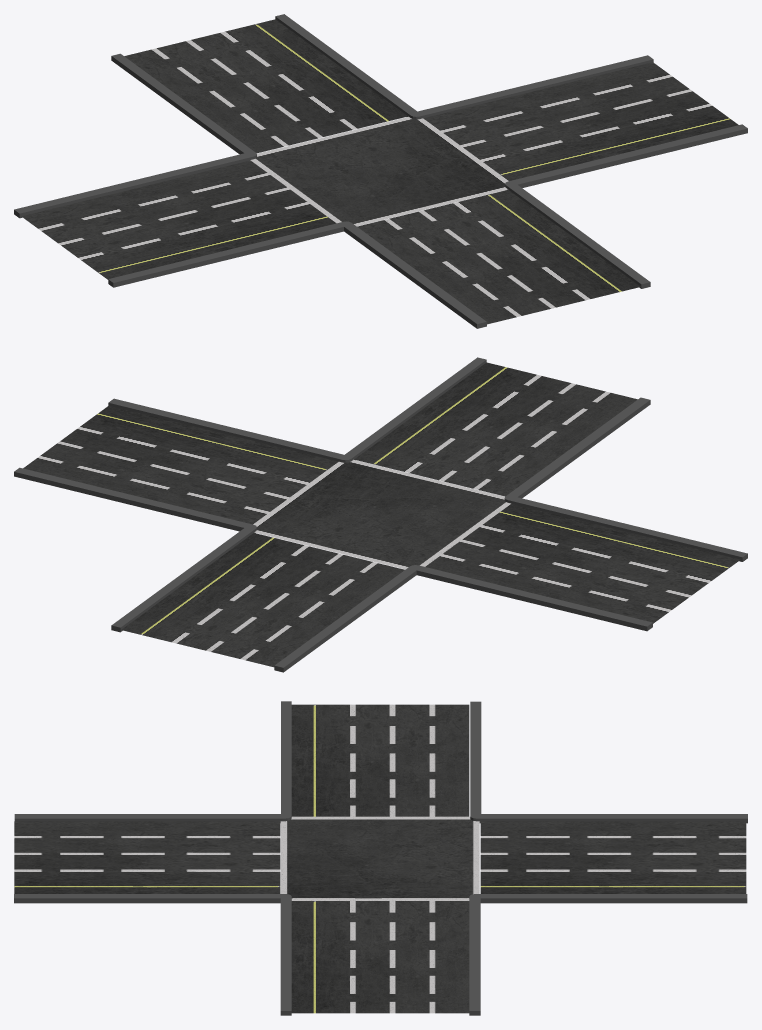
The model's file is 4-Lane_Four-way-intersection.fbx.
3 renders of one model, top to bottom at view 1: azimuth 30°, elevation 25°; view 2: azimuth 150°, elevation 25°; view 3: azimuth 270°, elevation 25°, orthographic.
Parts seen in each view (by area): view 1: polySurface21, polySurface22, polySurface19, polySurface20, polySurface23, pCube27, pCube25, pCube26, pCube28; view 2: polySurface21, polySurface22, polySurface20, polySurface19, polySurface23, pCube26, pCube28, pCube27, pCube25; view 3: polySurface20, polySurface19, polySurface22, polySurface21, polySurface23, pCube28, pCube25, pCube26, pCube27.
Boxes of the visible parts, box(x1,y1,x2,y2) form: polySurface21: box(357, 189, 640, 324); polySurface22: box(124, 19, 407, 153); polySurface19: box(423, 62, 738, 180); polySurface20: box(21, 160, 336, 279); polySurface23: box(250, 116, 508, 226); pCube27: box(108, 221, 486, 328); pCube25: box(505, 124, 747, 288); pCube26: box(14, 53, 256, 218); pCube28: box(275, 14, 653, 119); polySurface21: box(354, 362, 637, 496); polySurface22: box(121, 533, 404, 667); polySurface20: box(425, 503, 740, 623); polySurface19: box(23, 405, 338, 524); polySurface23: box(253, 459, 510, 569); pCube26: box(274, 565, 652, 672); pCube28: box(14, 467, 256, 632); pCube27: box(504, 397, 747, 561); pCube25: box(108, 357, 486, 462); polySurface20: box(291, 704, 469, 816); polySurface19: box(291, 901, 469, 1013); polySurface22: box(480, 821, 746, 893); polySurface21: box(14, 821, 280, 893); polySurface23: box(280, 816, 479, 900); pCube28: box(469, 894, 747, 1015); pCube25: box(14, 894, 291, 1015); pCube26: box(470, 701, 747, 823); pCube27: box(14, 701, 291, 822).
Bounding box in the file's own units: 263 × 1.88 × 263.
Materials: 3 (2 with a texture image).
